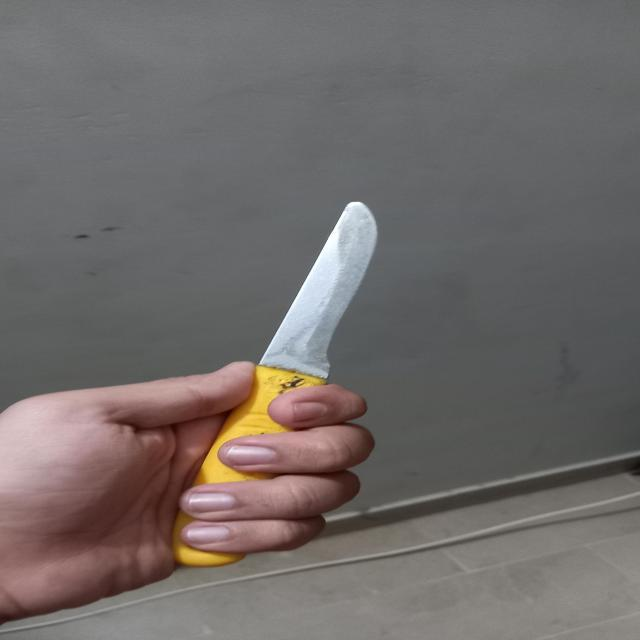faca: (172, 202, 382, 566)
